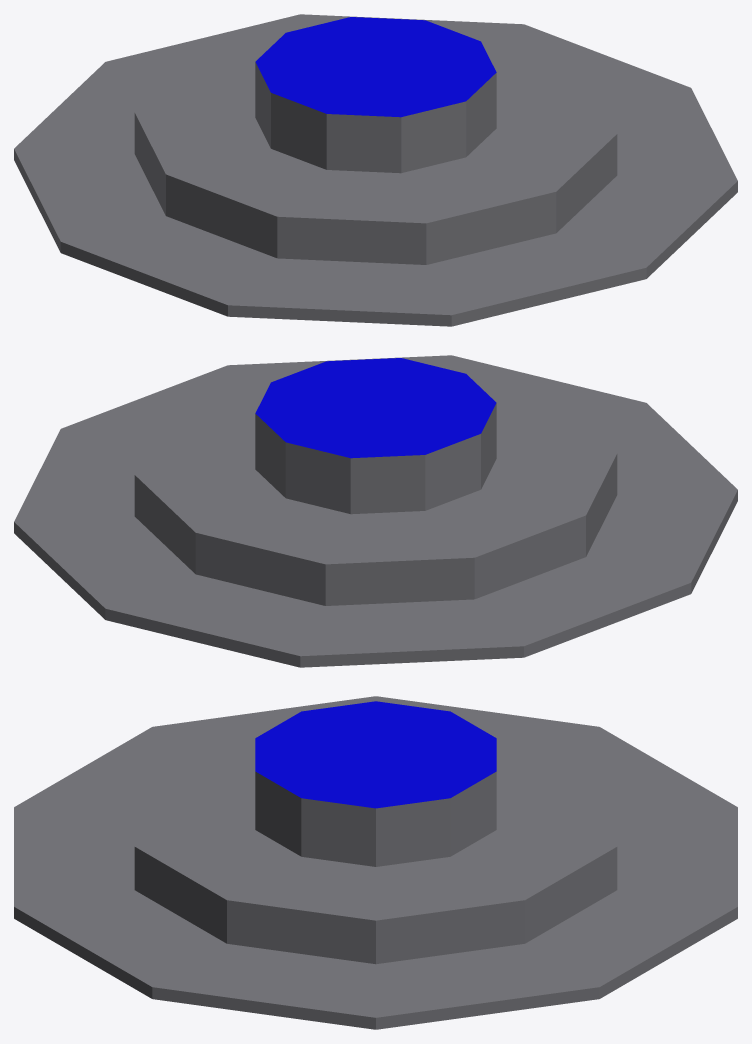
File: gBPlatform.fbx
3 renders of one model, top to bottom at view 1: azimuth 30°, elevation 25°; view 2: azimuth 150°, elevation 25°; view 3: azimuth 270°, elevation 25°, orthographic. The views are drawn at different scales.
Visible parts, largest first — view 1: gBPlatform_01; view 2: gBPlatform_01; view 3: gBPlatform_01.
Part boxes in pixels (<box>): gBPlatform_01: <box>14,14,737,326</box>; gBPlatform_01: <box>14,355,737,667</box>; gBPlatform_01: <box>14,696,737,1029</box>.
Bounding box in the file's own units: 300 × 49.62 × 285.
